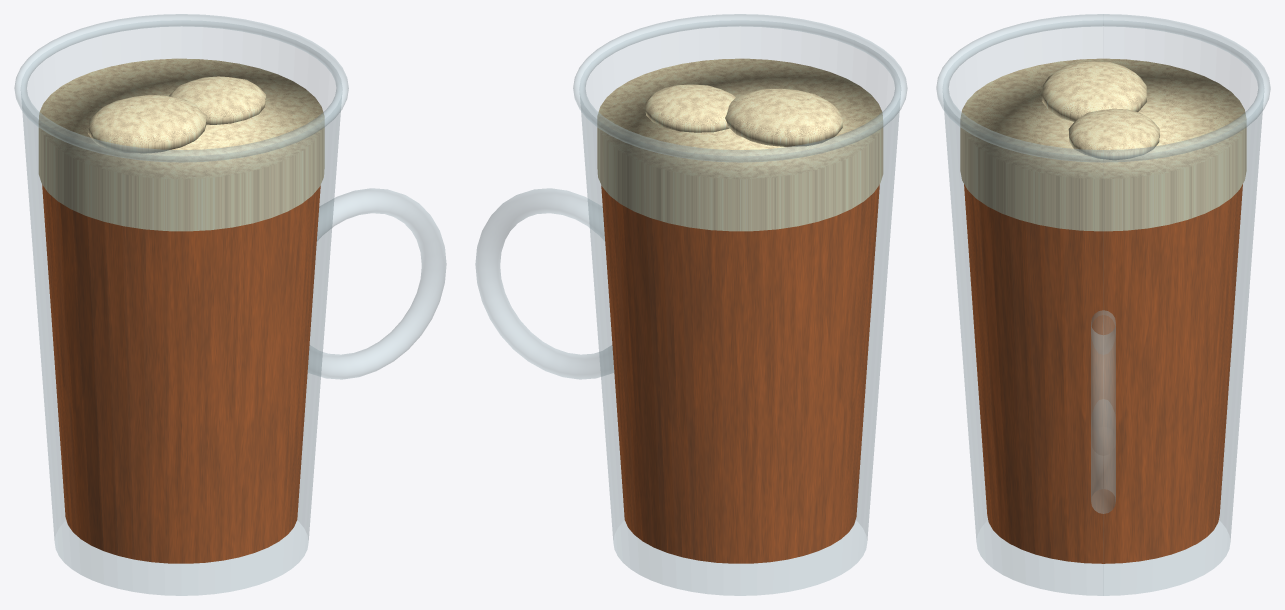
File: cerveza.glb
3 renders of one model, left to right at view 1: azimuth 30°, elevation 25°; view 2: azimuth 150°, elevation 25°; view 3: azimuth 270°, elevation 25°, orthographic.
Parts seen in each view (by area): view 1: glass, beer, foam; view 2: glass, beer, foam; view 3: glass, beer, foam.
Part boxes in pixels (x1,y1,x2,y2): glass: (14, 14, 446, 595); beer: (42, 184, 320, 563); foam: (38, 58, 324, 231); glass: (475, 14, 907, 595); beer: (601, 184, 879, 563); foam: (597, 58, 883, 231); glass: (936, 14, 1270, 595); beer: (964, 184, 1242, 563); foam: (960, 58, 1246, 231).
Bounding box in the file's own units: 0.2635 × 0.2835 × 0.187.
4 materials, 4 textured.
